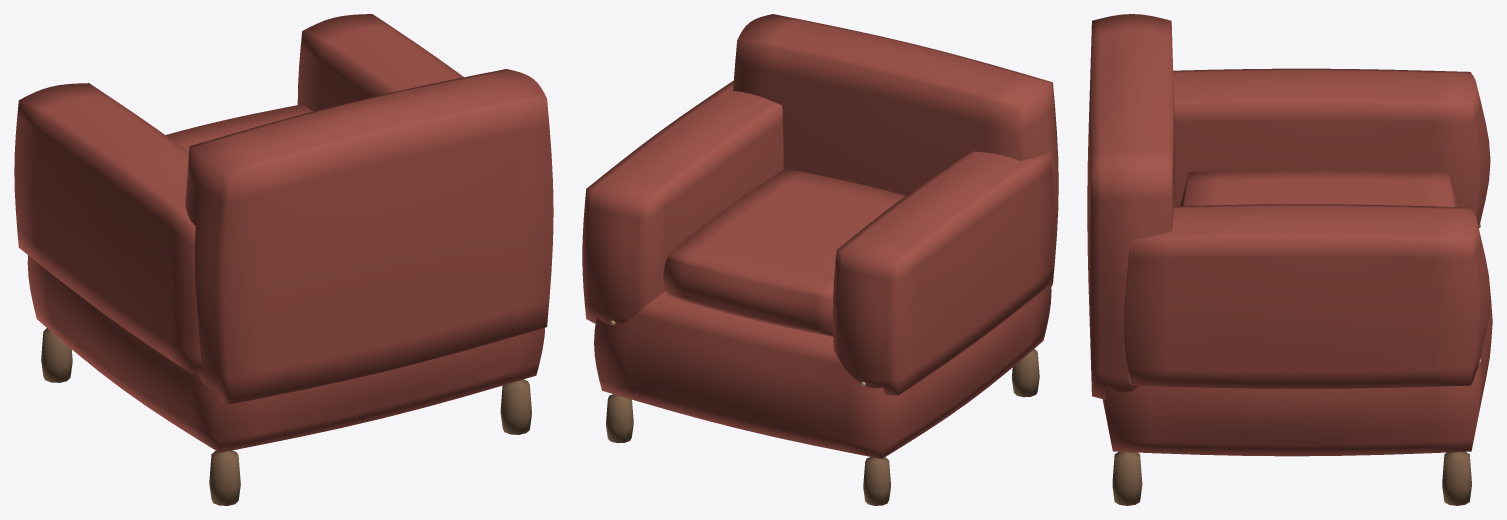
File: club_chair.glb
3 renders of one model, left to right at view 1: azimuth 30°, elevation 25°; view 2: azimuth 150°, elevation 25°; view 3: azimuth 270°, elevation 25°, orthographic. The views are drawn at different scales.
Visible parts, largest first — view 1: club_chair; view 2: club_chair; view 3: club_chair.
Boxes of the visible parts, left/top/right/bottom form: club_chair: left=14, top=14, right=553, bottom=505; club_chair: left=582, top=14, right=1058, bottom=505; club_chair: left=1087, top=14, right=1492, bottom=505.
Size of the model in its own units: 0.92 by 0.86 by 0.91.
